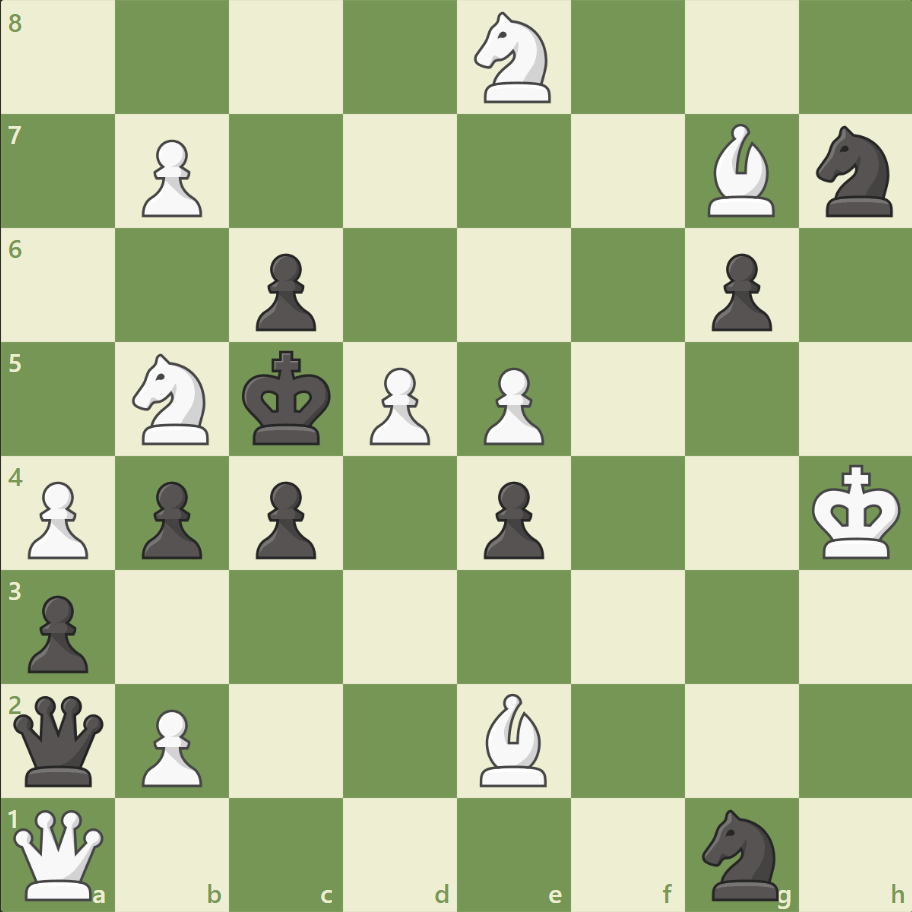B: (471, 687, 555, 790), (698, 120, 782, 222)
K: (806, 458, 906, 566)
N: (124, 348, 222, 450), (465, 7, 562, 110)
P: (133, 132, 208, 223), (474, 359, 549, 450), (20, 473, 95, 564), (133, 700, 208, 791), (361, 359, 435, 450)
Q: (10, 804, 109, 903)
k: (238, 344, 338, 452)
n: (806, 121, 903, 223), (692, 802, 789, 904)
p: (247, 246, 322, 337), (701, 246, 776, 337), (133, 473, 208, 564), (247, 473, 322, 564), (474, 473, 549, 564), (20, 586, 95, 677)
q: (10, 690, 109, 789)
